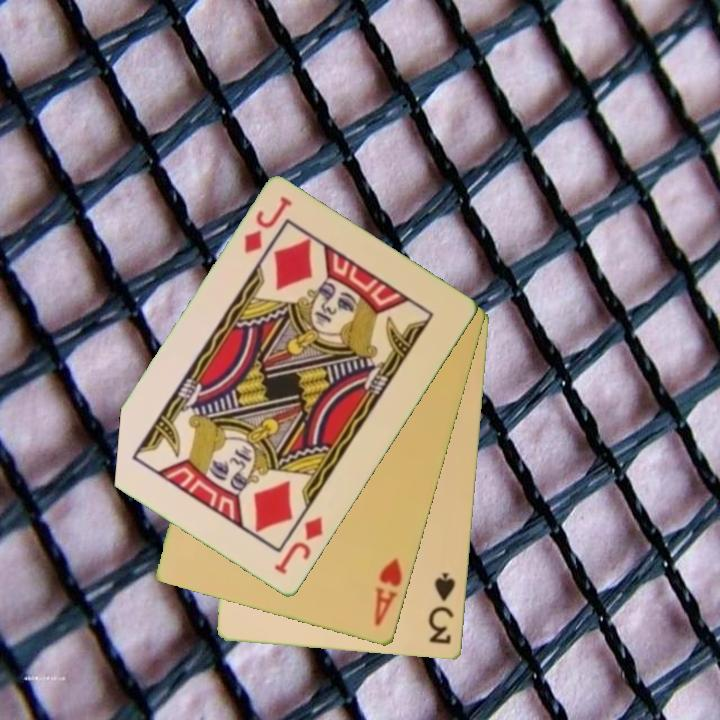3s: (425, 569, 458, 648)
Ah: (371, 554, 406, 629)
Jd: (270, 513, 327, 578), (240, 193, 295, 258)
